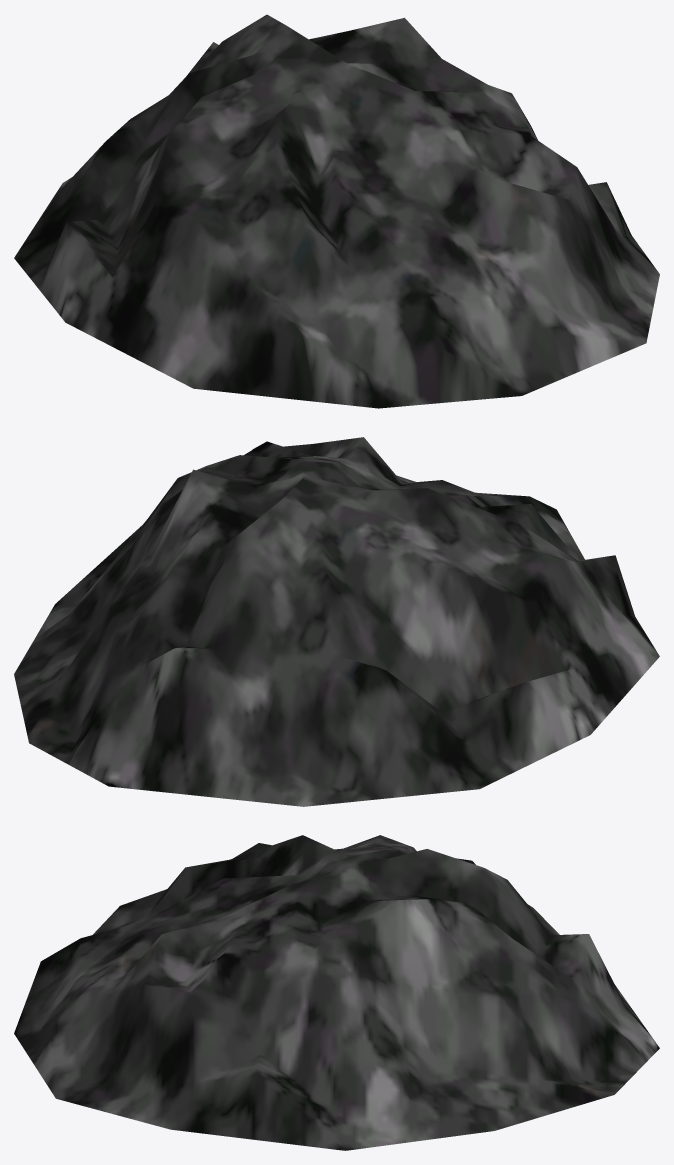
Rendered from INST_SWORDLIGHT_OREB.fbx.
3 views of the same model, one above another, from view 1: azimuth 30°, elevation 25°; view 2: azimuth 150°, elevation 25°; view 3: azimuth 270°, elevation 25° (orthographic). The views are drawn at different scales.
Visible parts, largest first — view 1: INST_SWORDLIGHT_OREB; view 2: INST_SWORDLIGHT_OREB; view 3: INST_SWORDLIGHT_OREB.
Boxes of the visible parts, bbox=[...] form: INST_SWORDLIGHT_OREB: bbox=[14, 14, 659, 408]; INST_SWORDLIGHT_OREB: bbox=[14, 437, 659, 806]; INST_SWORDLIGHT_OREB: bbox=[14, 835, 659, 1150].
Size of the model in its own units: 12161 by 4428 by 14155.
1 material, 1 textured.
